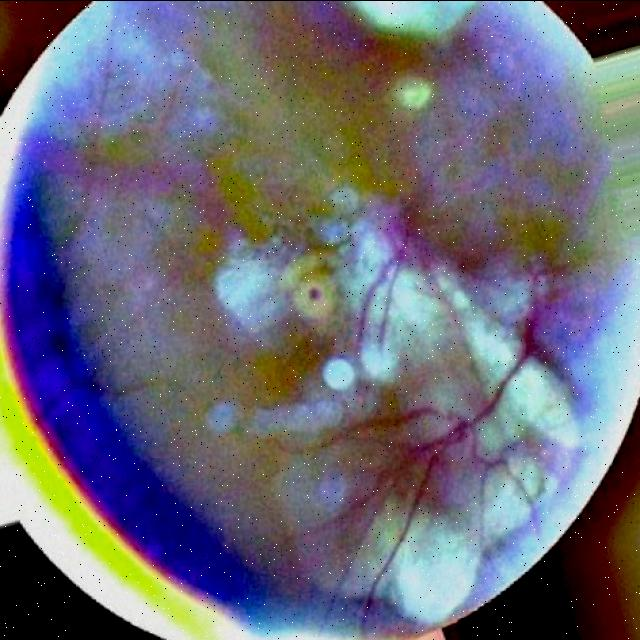Macula: (282, 247, 338, 341)
Nerves: (363, 461, 443, 626), (344, 450, 431, 581), (435, 352, 529, 449), (272, 410, 432, 451)
Optic Disk: (350, 342, 521, 546)
